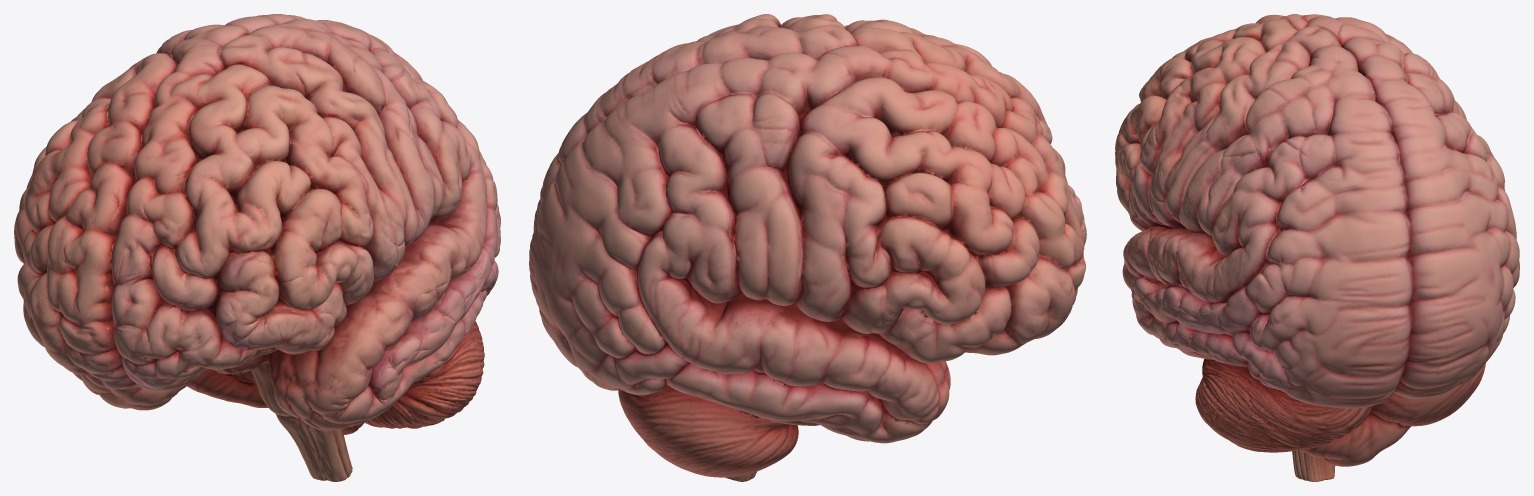
The model's file is brain.glb.
The picture shows the model from 3 angles, left to right: view 1: azimuth 30°, elevation 25°; view 2: azimuth 150°, elevation 25°; view 3: azimuth 270°, elevation 25°; orthographic projection. The views are drawn at different scales.
Visible parts, largest first — view 1: tripo_node_938185c2-e59c-4f52-8e5e-bb526af0889b; view 2: tripo_node_938185c2-e59c-4f52-8e5e-bb526af0889b; view 3: tripo_node_938185c2-e59c-4f52-8e5e-bb526af0889b.
Part boxes in pixels (left/top/right/bottom): tripo_node_938185c2-e59c-4f52-8e5e-bb526af0889b: left=14, top=14, right=500, bottom=481; tripo_node_938185c2-e59c-4f52-8e5e-bb526af0889b: left=529, top=14, right=1086, bottom=481; tripo_node_938185c2-e59c-4f52-8e5e-bb526af0889b: left=1115, top=14, right=1519, bottom=481.
Size of the model in its own units: 0.9804 by 0.9007 by 0.8078.
Materials: 1 (1 with a texture image).
